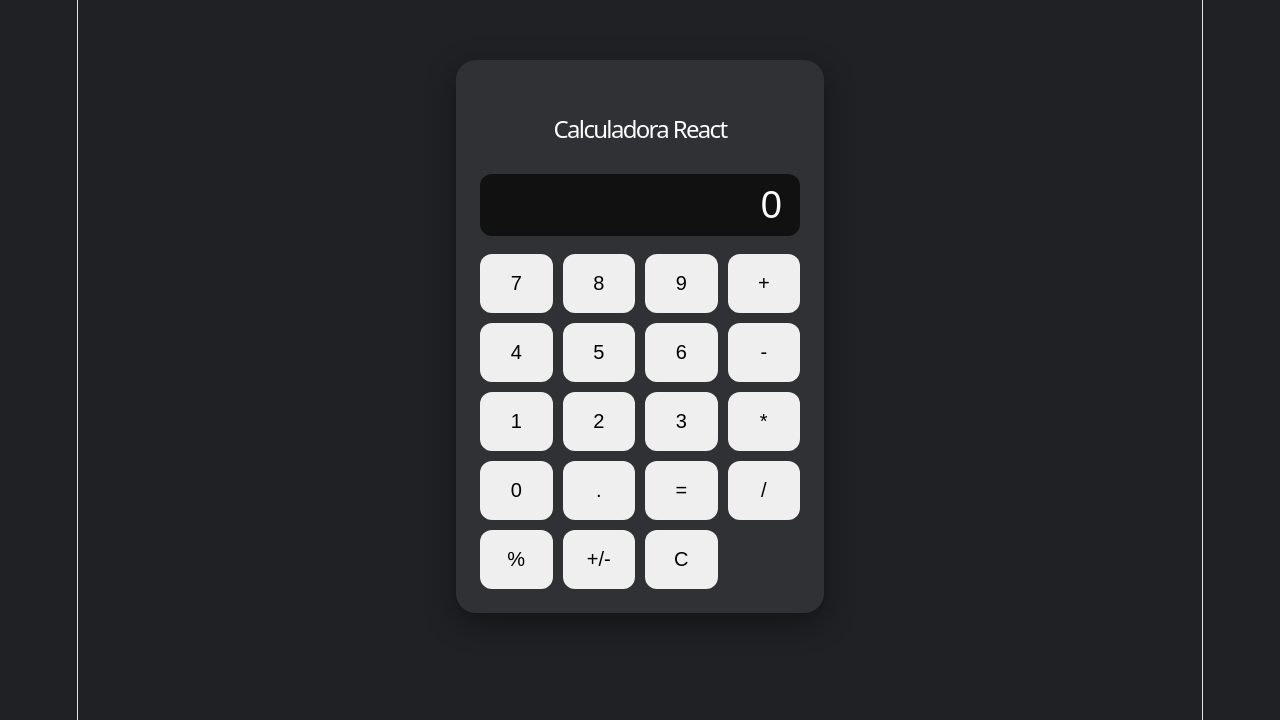
it: muestra ERROR si el resultado es negativo
Click the button named "Botón 5": (599, 353) [562,323,635,382]
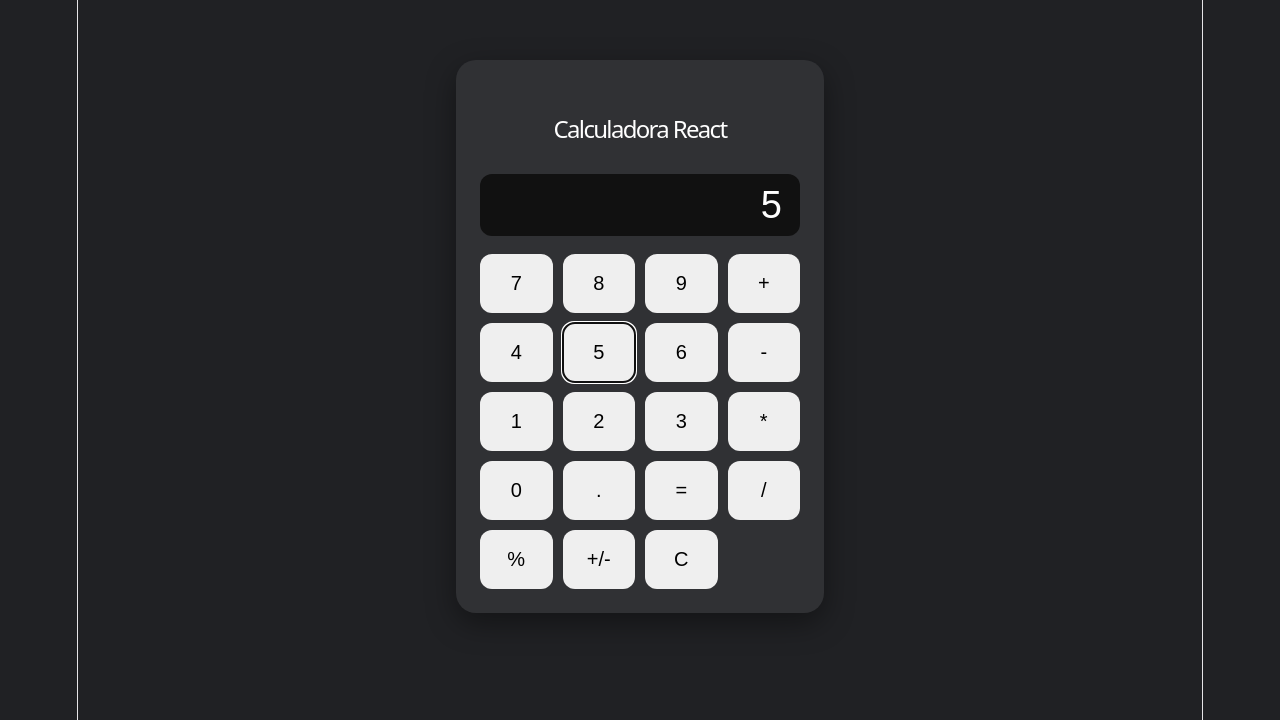
Click the button named "Botón -": (764, 353) [728,323,800,382]
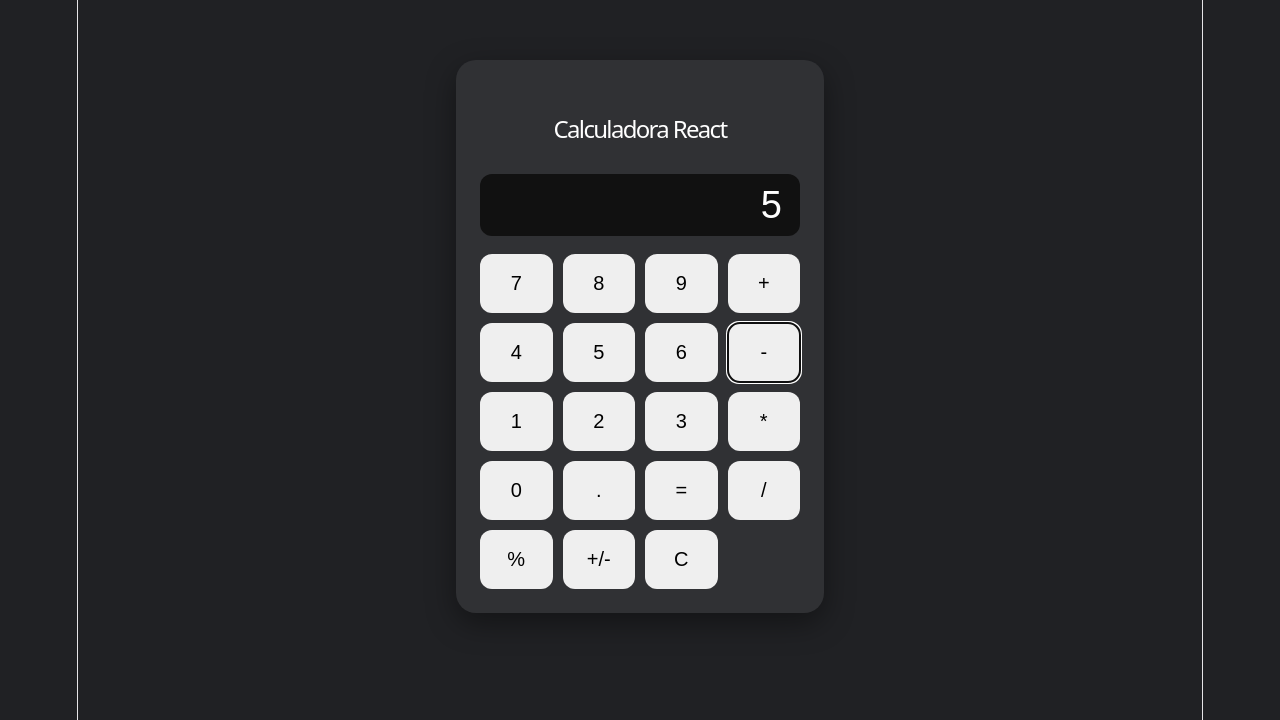
Click the button named "Botón 9": (681, 284) [645,254,718,313]
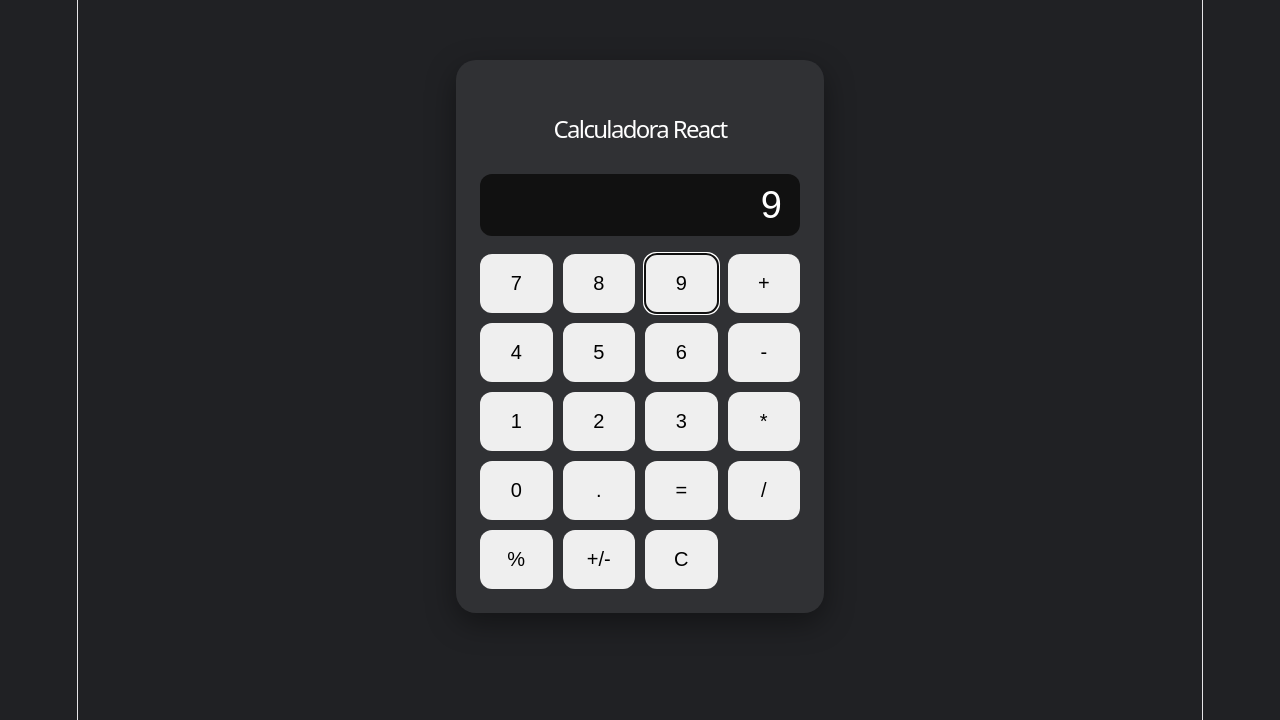
Click the button named "Botón =": (681, 491) [645,461,718,520]
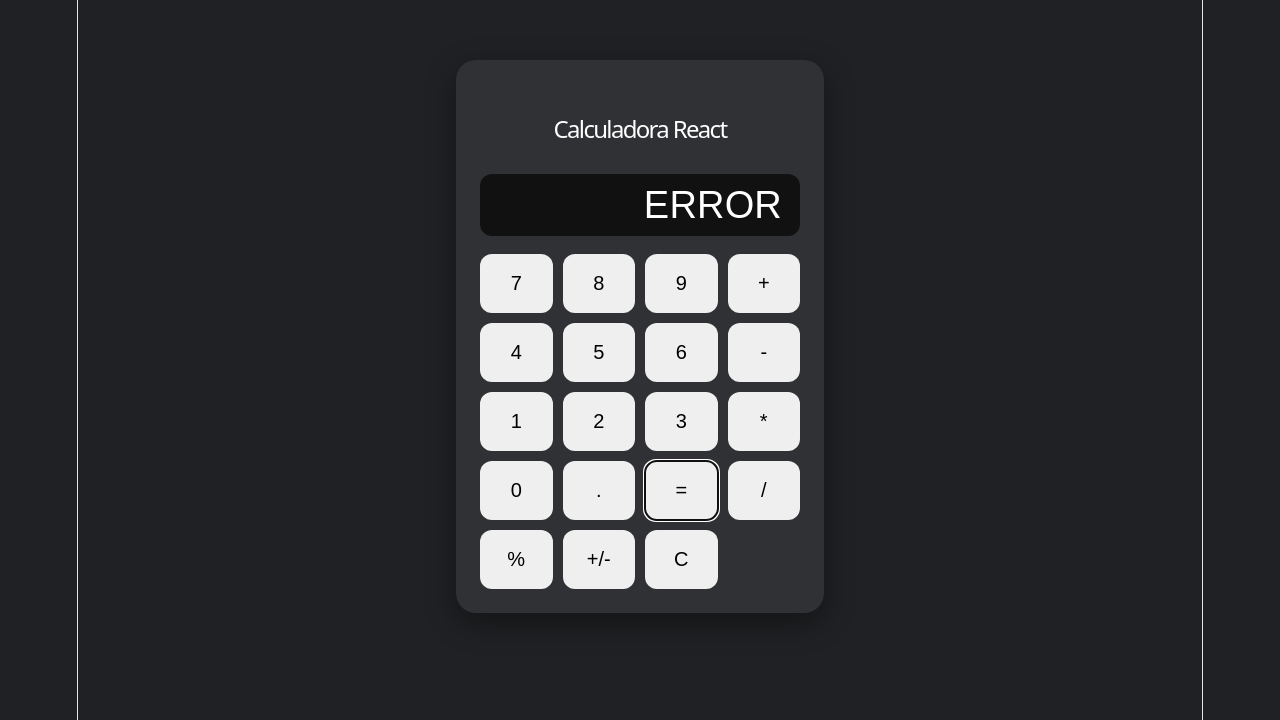
Expected: the text "ERROR" is shown, [480,174,800,236]
